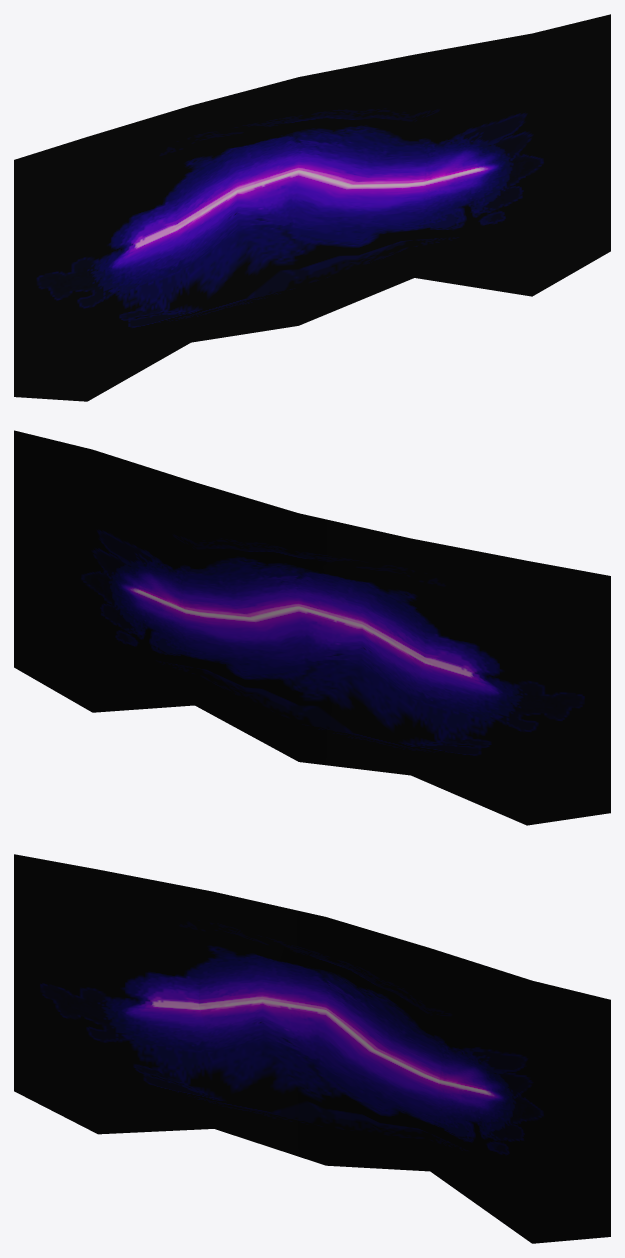
The model's file is airwall_02.FBX.
3 renders of one model, top to bottom at view 1: azimuth 30°, elevation 25°; view 2: azimuth 150°, elevation 25°; view 3: azimuth 330°, elevation 25°, orthographic.
Parts seen in each view (by area): view 1: Plane001; view 2: Plane001; view 3: Plane001.
Part boxes in pixels (bbox=[...]): Plane001: bbox=[14, 14, 610, 401]; Plane001: bbox=[14, 430, 610, 825]; Plane001: bbox=[14, 854, 610, 1243].
Size of the model in its own units: 667 by 283 by 26.52.
